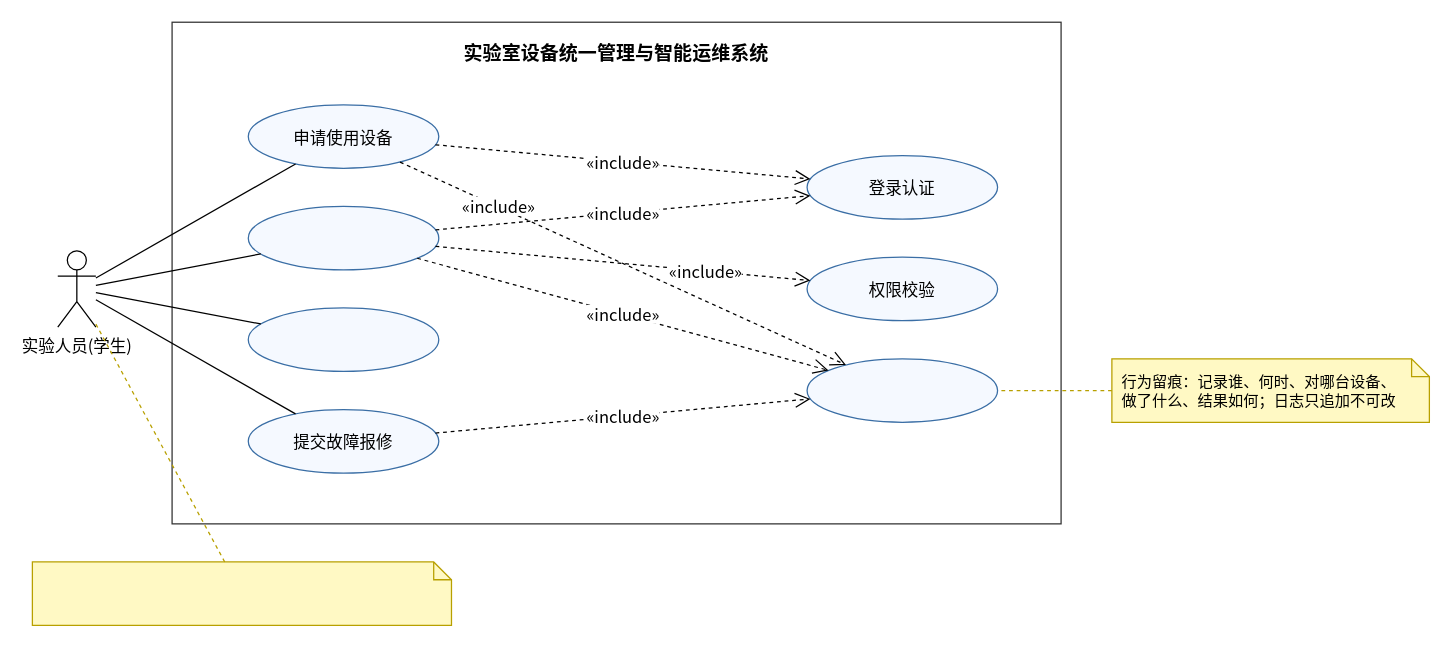
Some shapes in this 1452 by 648 pixel diagram are drawn without their labels. Here are the shapes that lost their labels. From the top down, the centre of each, then its label:
At (343,237): "操作设备".
At (343,339): "查看设备状态".
At (902,390): "行为留痕".
At (241,593): "子参与者「实验室管理员」泛化（继承）自本参与者， 同样拥有本图中的全部用例".
